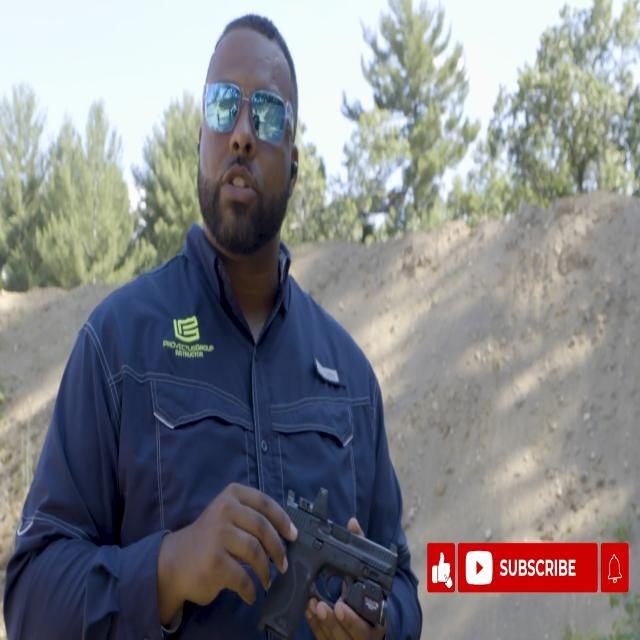Gun_Holder: (247, 473, 398, 640)
Person: (0, 0, 429, 630)
